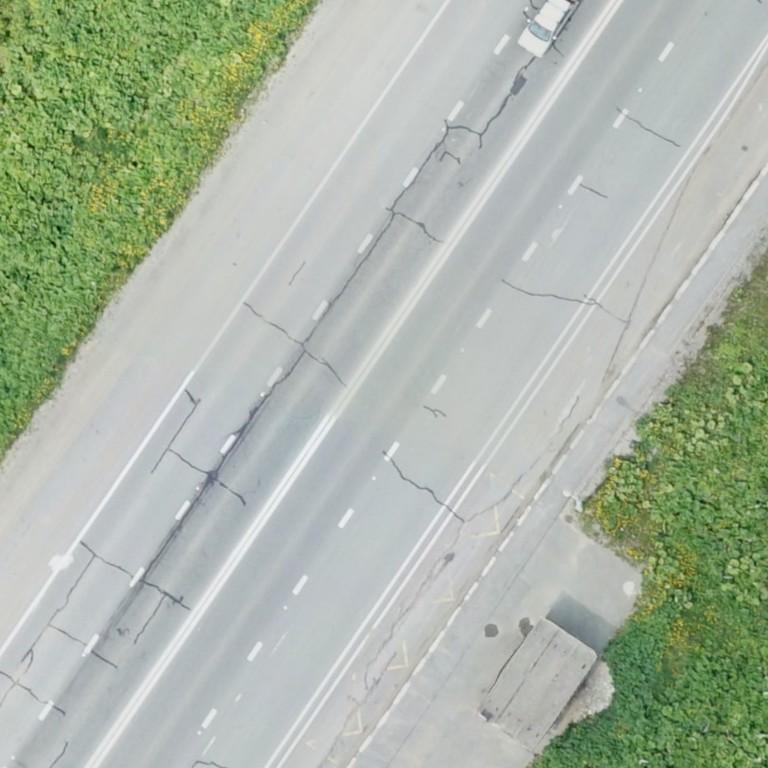hogweed: (536, 605, 767, 767)
